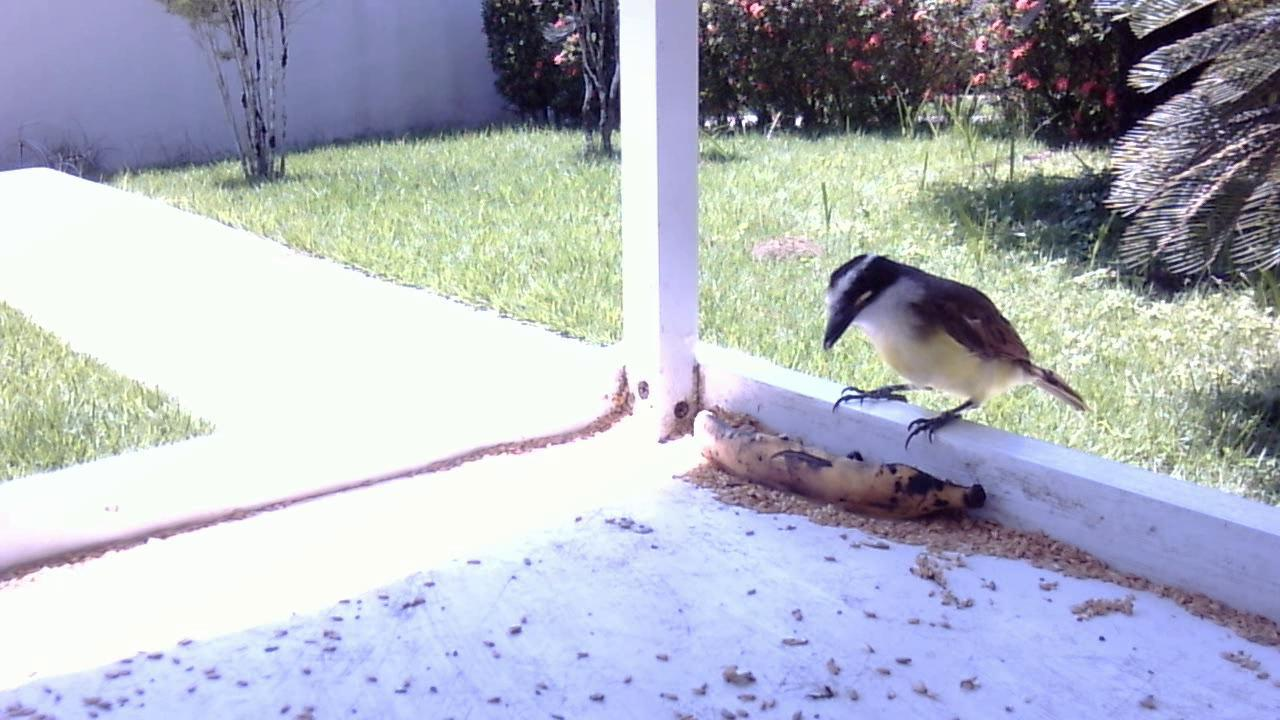bem_te_vi: (820, 247, 1090, 460)
